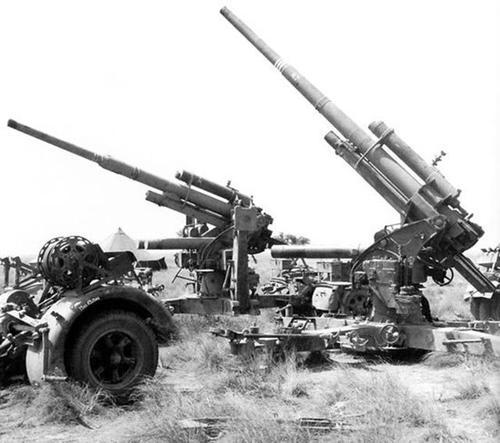MIL_SPG: (222, 9, 495, 352), (9, 121, 272, 312)
